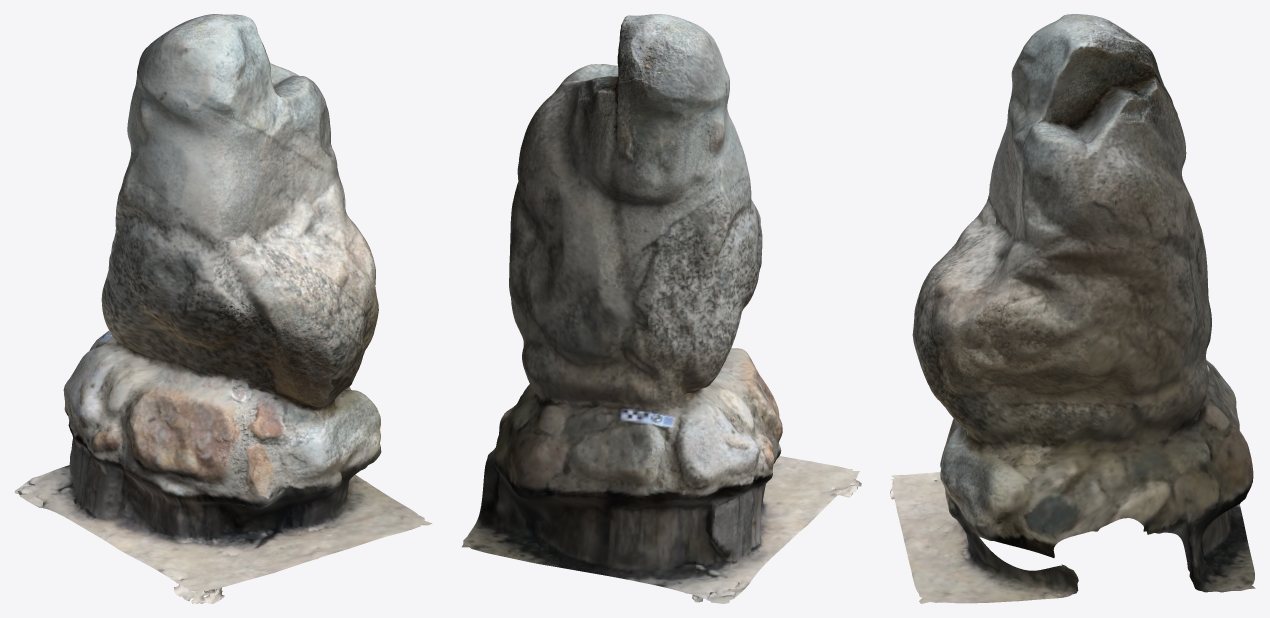
3 renders of one model, left to right at view 1: azimuth 30°, elevation 25°; view 2: azimuth 150°, elevation 25°; view 3: azimuth 270°, elevation 25°, orthographic. The views are drawn at different scales.
Parts seen in each view (by area): view 1: Object; view 2: Object; view 3: Object.
Boxes of the visible parts, x1,y1,x2,y2 form: Object: [14, 14, 432, 603]; Object: [462, 14, 861, 603]; Object: [890, 14, 1255, 603].
Size of the model in its own units: 0.6399 by 1.1 by 0.6963.
1 material, 1 textured.
